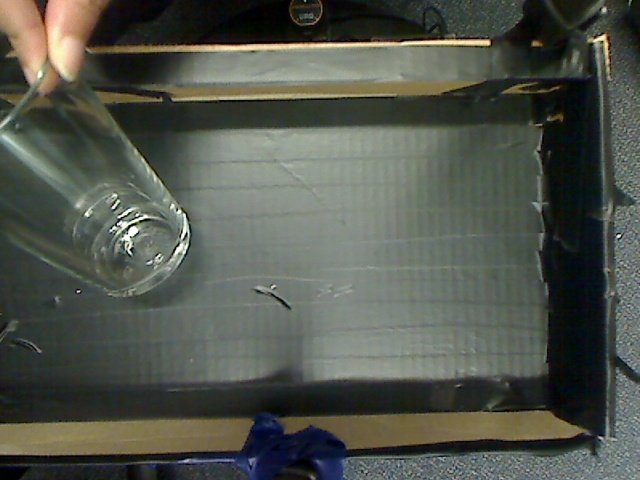cup: (1, 48, 205, 304)
